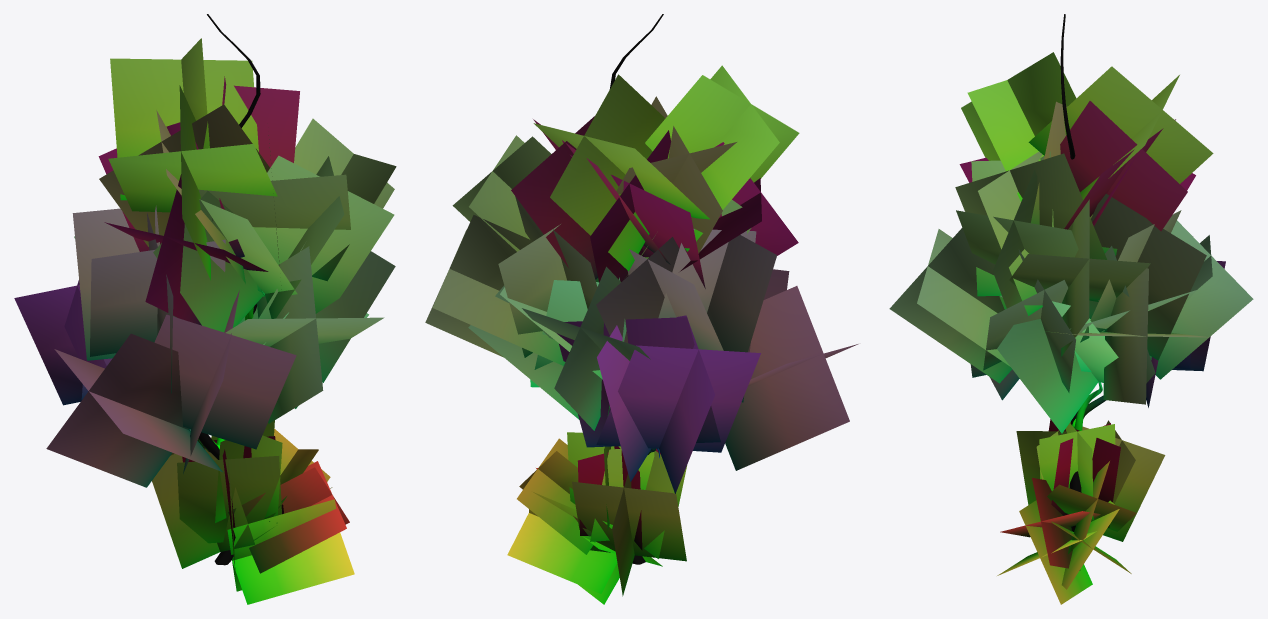
Rendered from URP_P12_Tree_4_LOD_0.fbx.
The picture shows the model from 3 angles, left to right: view 1: azimuth 30°, elevation 25°; view 2: azimuth 150°, elevation 25°; view 3: azimuth 270°, elevation 25°; orthographic projection. The views are drawn at different scales.
Visible parts, largest first — view 1: Tree_4_LOD_0; view 2: Tree_4_LOD_0; view 3: Tree_4_LOD_0.
Part boxes in pixels (<box>): Tree_4_LOD_0: <box>14,14,396,604</box>; Tree_4_LOD_0: <box>425,14,858,604</box>; Tree_4_LOD_0: <box>889,14,1253,604</box>.
Bounding box in the file's own units: 198 × 301 × 181.
